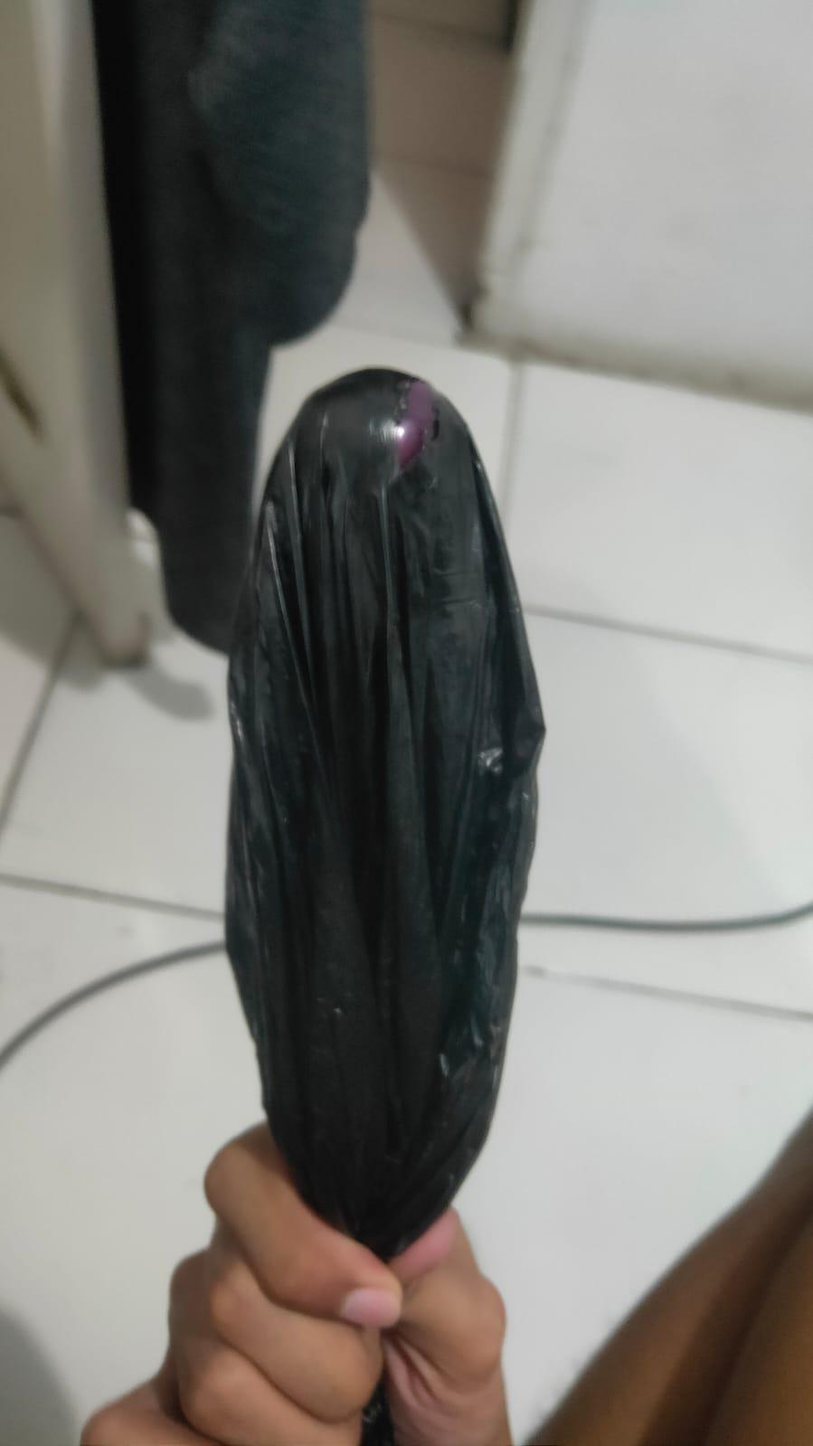damaged package: (373, 373, 451, 492)
undamaged: (204, 346, 560, 1254)
